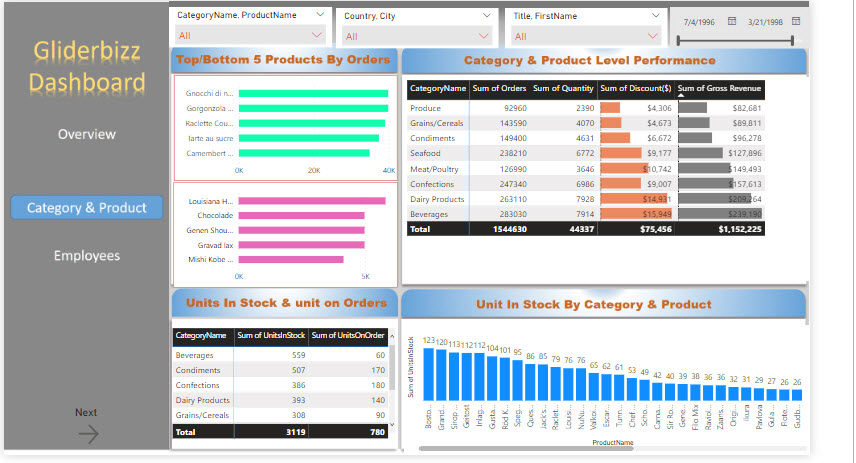

The page's visual inventory and layout, read from the dashboard file:
{"tool":"powerbi","page":{"name":"Category & Product","canvas":[1280,720],"ordinal":1},"visuals":[{"type":"slicer","fields":{"Values":["Product.CategoryName","Product.ProductName"]},"box":[262,10.1,258.7,63.8],"z":0},{"type":"slicer","fields":{"Values":["Order_Details.Country","Order_Details.City"]},"box":[527.6,10.6,258.5,63.7],"z":1000},{"type":"slicer","fields":{"Values":["Order_Details.Title","Order_Details.FirstName"]},"box":[794.9,10.6,258.5,63.7],"z":2000},{"type":"slicer","fields":{"Values":["Order_Details.OrderDate"]},"box":[1056.9,8.9,223.1,65.5],"z":3000},{"type":"clusteredBarChart","fields":{"Y":["Order_Details.Orders"],"Category":["Product.ProductName"]},"box":[269.6,117.4,355.1,168.1],"z":4000},{"type":"clusteredBarChart","fields":{"Y":["Order_Details.Orders"],"Category":["Product.ProductName"]},"box":[268.1,287,356.5,168.1],"z":5000},{"type":"pivotTable","fields":{"Rows":["Product.CategoryName"],"Values":["Order_Details.Orders","Order_Details.Quantity","Order_Details.Discount($)","Order_Details.Gross Revenue"]},"box":[634.7,120.2,645.3,323.5],"z":6000},{"type":"pivotTable","fields":{"Rows":["Product.CategoryName"],"Values":["Product.UnitsInStock","Product.UnitsOnOrder"]},"box":[267,514,354,185],"z":7000},{"type":"clusteredColumnChart","fields":{"Category":["Product.ProductName"],"Y":["Product.UnitsInStock"]},"box":[634.7,514.5,645.3,205.1],"z":8000},{"type":"actionButton","title":"Next","box":[113.2,642.2,48.1,66.5],"z":9000}]}

Visuals, with their boxes on the page's 1280x720 design canvas (x1, y1, x2, y2). These are canvas units, not pixel positions in the 856x463 screenshot, which may show the page scaled, cropped or inside an application window:
slicer - Product.CategoryName x Product.ProductName: box(262, 10, 521, 74)
slicer - Order_Details.Country x Order_Details.City: box(528, 11, 786, 74)
slicer - Order_Details.Title x Order_Details.FirstName: box(795, 11, 1053, 74)
slicer - Order_Details.OrderDate: box(1057, 9, 1280, 74)
clusteredBarChart - Order_Details.Orders x Product.ProductName: box(270, 117, 625, 286)
clusteredBarChart - Order_Details.Orders x Product.ProductName: box(268, 287, 625, 455)
pivotTable - Product.CategoryName x Order_Details.Orders: box(635, 120, 1280, 444)
pivotTable - Product.CategoryName x Product.UnitsInStock: box(267, 514, 621, 699)
clusteredColumnChart - Product.ProductName x Product.UnitsInStock: box(635, 514, 1280, 720)
"Next" actionButton: box(113, 642, 161, 709)
